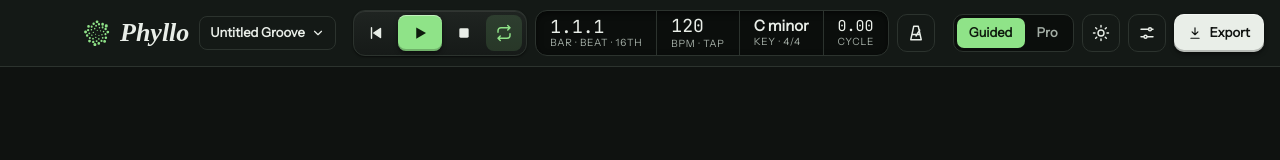
Scenario: AppHeader › should edit the tempo in place
Click the button named "120 BPM, edit tempo" at (698, 26), box [657,16,739,37]
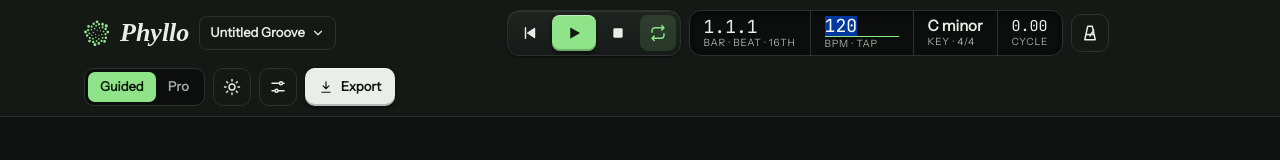
Type keys "{Control>}a{/Control}128{Enter}"
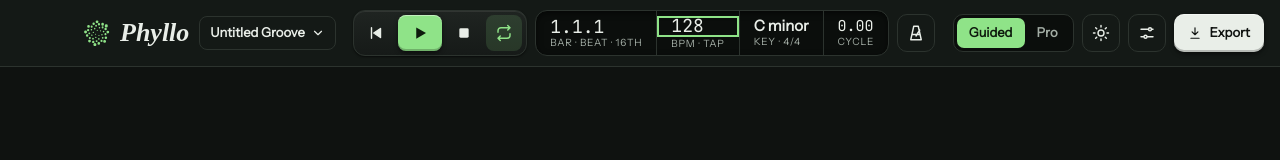
Now the button named "128 BPM, edit tempo" is shown, box [657,16,739,37]
